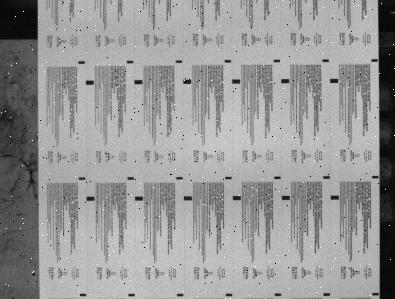qblock: (134, 80, 143, 85), (183, 79, 192, 84), (86, 80, 94, 85), (233, 79, 241, 84), (233, 196, 241, 201), (282, 196, 291, 200), (331, 196, 340, 200), (184, 197, 193, 201), (282, 79, 290, 83), (331, 79, 339, 83), (87, 197, 95, 201), (135, 197, 143, 201)
smallqblock: (127, 60, 134, 64), (274, 59, 281, 63), (79, 177, 86, 181), (275, 176, 282, 180), (78, 61, 85, 64), (373, 293, 380, 296), (176, 60, 183, 63), (323, 59, 330, 62), (225, 60, 232, 63), (372, 59, 379, 62), (127, 177, 134, 180), (80, 294, 87, 297), (324, 294, 331, 297), (176, 177, 183, 180), (324, 176, 331, 179), (226, 177, 233, 180), (275, 294, 282, 297), (226, 294, 233, 297), (128, 294, 135, 297), (177, 294, 184, 297), (373, 176, 380, 179)
